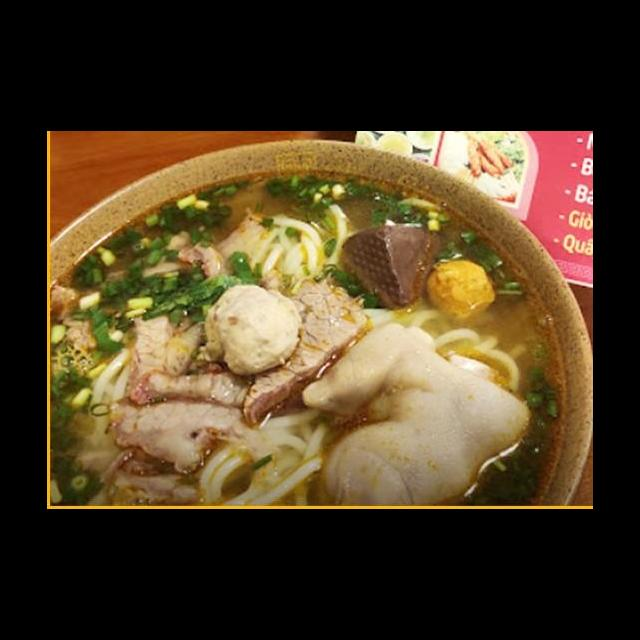bun: (195, 399, 336, 509), (410, 303, 530, 395), (250, 199, 361, 292), (72, 341, 138, 451)
bun bo: (71, 157, 554, 478)
thit bo: (239, 271, 374, 429), (106, 387, 253, 476), (125, 308, 209, 410), (99, 444, 209, 509), (128, 366, 261, 415)
